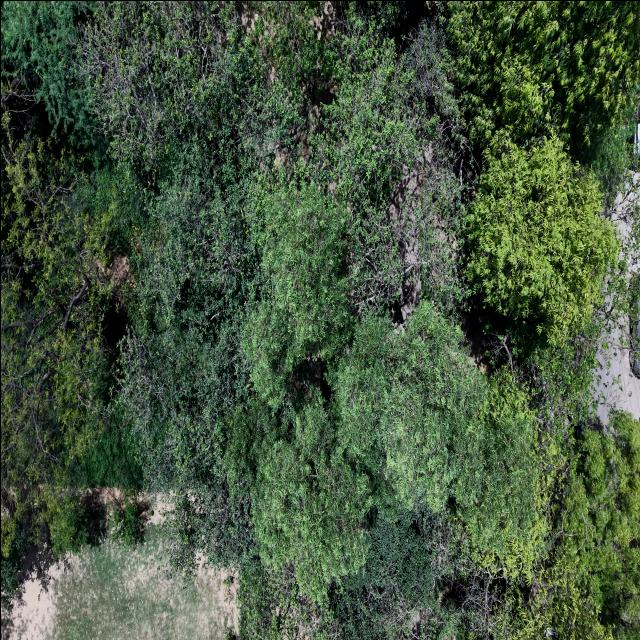VEGETATION_TREE: (1, 1, 639, 639), (465, 133, 618, 342), (447, 1, 639, 160), (513, 413, 639, 639)
